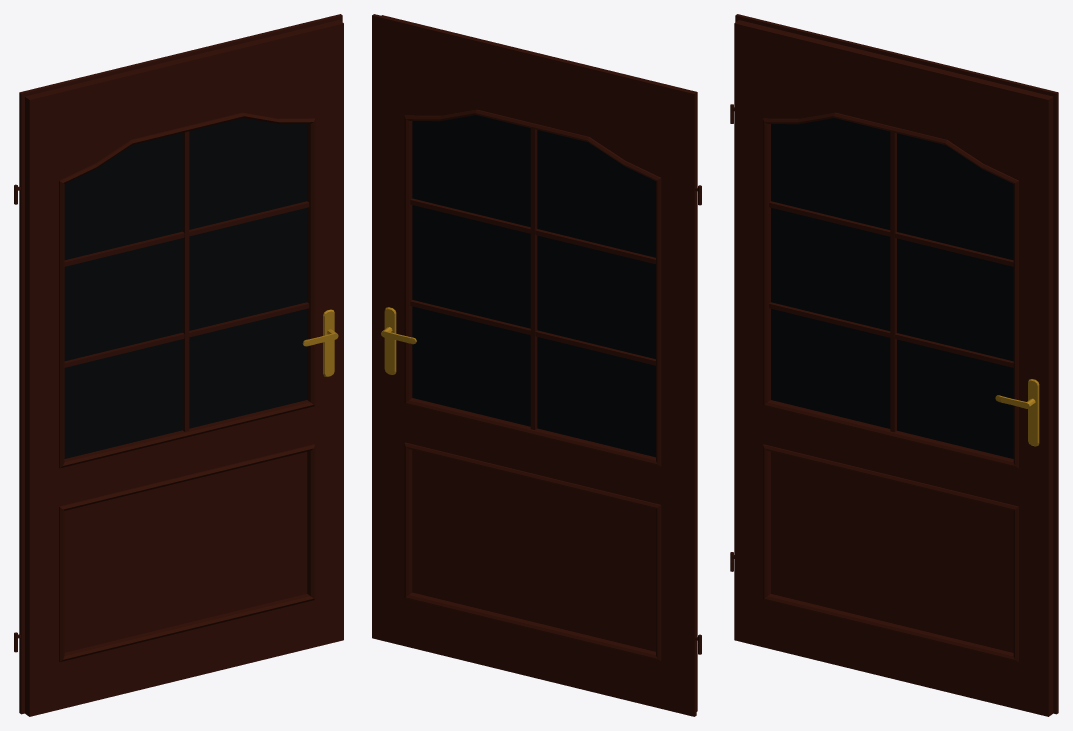
The model's file is door.obj.
3 views of the same model, side by side, from view 1: azimuth 30°, elevation 25°; view 2: azimuth 150°, elevation 25°; view 3: azimuth 330°, elevation 25° (orthographic).
Visible parts, largest first — view 1: Door_Cube.023_Material.001, Door_Cube.023_Material.006, Door_Cube.023_Material.002; view 2: Door_Cube.023_Material.001, Door_Cube.023_Material.006, Door_Cube.023_Material.002; view 3: Door_Cube.023_Material.001, Door_Cube.023_Material.006, Door_Cube.023_Material.002.
Boxes of the visible parts, x1,y1,x2,y2 form: Door_Cube.023_Material.001: [14, 14, 343, 716]; Door_Cube.023_Material.006: [64, 118, 307, 458]; Door_Cube.023_Material.002: [302, 309, 338, 376]; Door_Cube.023_Material.001: [372, 14, 701, 716]; Door_Cube.023_Material.006: [412, 115, 655, 457]; Door_Cube.023_Material.002: [381, 307, 416, 374]; Door_Cube.023_Material.001: [730, 14, 1058, 716]; Door_Cube.023_Material.006: [771, 118, 1013, 458]; Door_Cube.023_Material.002: [995, 379, 1039, 446].
Bounding box in the file's own units: 0.5522 × 1 × 0.0595.
